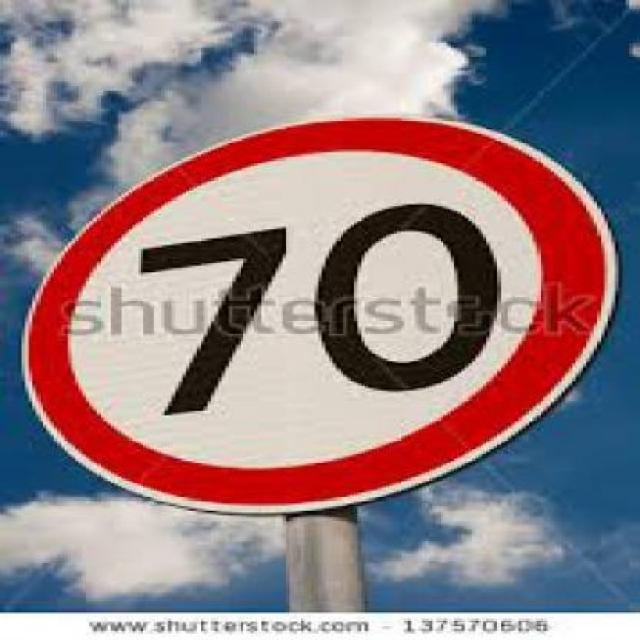forb_speed_over_70: (79, 150, 548, 459)
